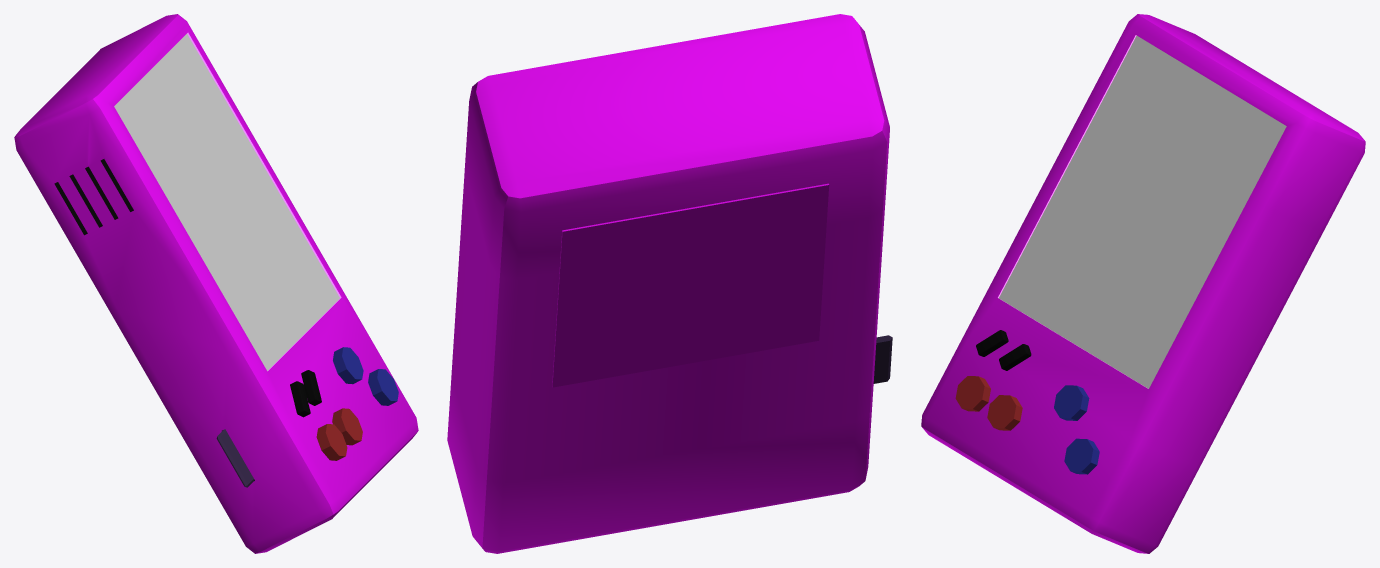
File: game.fbx
3 renders of one model, left to right at view 1: azimuth 30°, elevation 25°; view 2: azimuth 150°, elevation 25°; view 3: azimuth 270°, elevation 25°, orthographic. The views are drawn at different scales.
Parts seen in each view (by area): view 1: Cube_2_3_3, Cube_2, Cylinder, Cylinder_1, Cylinder_2, Cylinder_3, Cube_1, Cube_1_3, Cube, Cube_1_2; view 2: Cube_2_3_3, Cube_2_2, Cube_1; view 3: Cube_2_3_3, Cube_2, Cylinder_3, Cylinder_2, Cylinder, Cylinder_1, Cube_1_3.
Part boxes in pixels (x1,y1,x2,y2): Cube_2_3_3: (14, 14, 418, 553); Cube_2: (114, 34, 339, 370); Cylinder: (368, 369, 398, 405); Cylinder_1: (333, 347, 363, 384); Cylinder_2: (316, 424, 347, 460); Cylinder_3: (332, 408, 362, 445); Cube_1: (216, 429, 254, 487); Cube_1_3: (187, 32, 341, 371); Cube: (290, 381, 310, 417); Cube_1_2: (301, 370, 321, 405); Cube_2_3_3: (447, 14, 889, 553); Cube_2_2: (552, 183, 829, 387); Cube_1: (873, 335, 892, 383); Cube_2_3_3: (921, 14, 1365, 553); Cube_2: (999, 36, 1286, 388); Cylinder_3: (987, 395, 1022, 430); Cylinder_2: (955, 376, 990, 411); Cylinder: (1064, 438, 1099, 474); Cylinder_1: (1054, 385, 1089, 420); Cube_1_3: (998, 35, 1147, 388).
Size of the model in its own units: 727 by 858 by 819.
